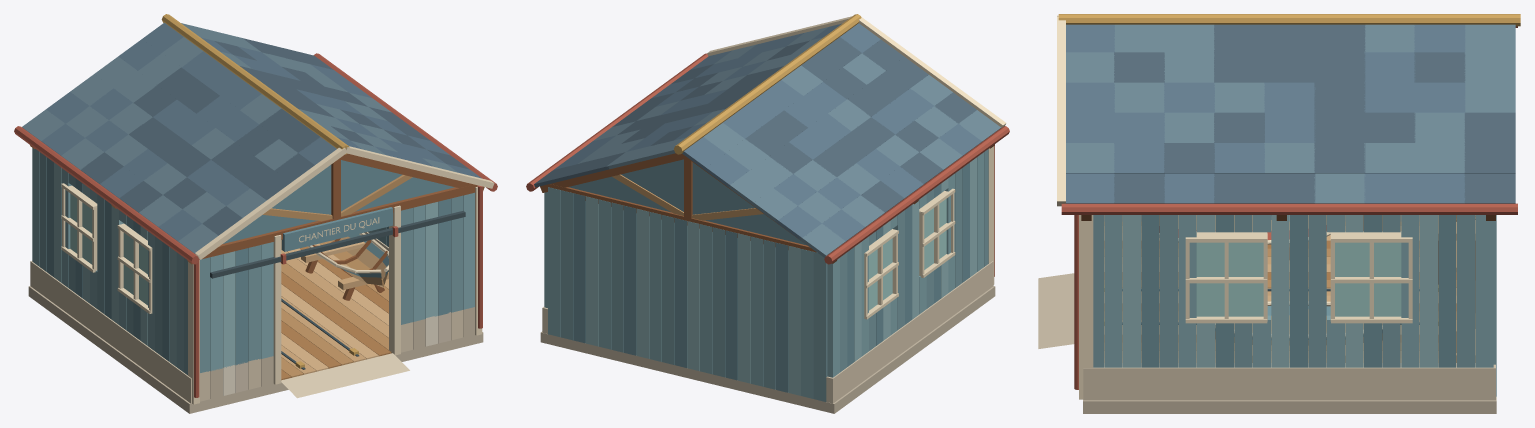
File: hangar_quai.glb
3 views of the same model, side by side, from view 1: azimuth 30°, elevation 25°; view 2: azimuth 150°, elevation 25°; view 3: azimuth 270°, elevation 25° (orthographic). The views are drawn at different scales.
Parts seen in each view (by area): view 1: Toit · Ardoise 1, Toit · Ardoise 0, Toit · Ardoise 2, Atelier · Calcaire 0, Coupe · Bardage 1, Coupe · Bardage 0, Coupe · Peinture ivoire, Coupe · Bardage 3, Toit · Bardage 3, Atelier · Calcaire 1, Coupe · Bardage 2, Toit · Chêne des membrures (+19 smaller); view 2: Toit · Ardoise 1, Toit · Ardoise 2, Toit · Ardoise 0, Atelier · Bardage 1, Atelier · Bardage 0, Atelier · Bardage 2, Atelier · Bardage 3, Toit · Bardage 3, Atelier · Calcaire 1, Atelier · Calcaire 0, Coupe · Peinture ivoire, Toit · Cuivre corail (+9 smaller); view 3: Toit · Ardoise 0, Toit · Ardoise 1, Toit · Ardoise 2, Atelier · Calcaire 0, Coupe · Verre dépoli, Coupe · Bardage 1, Coupe · Peinture ivoire, Coupe · Bardage 0, Coupe · Bardage 3, Coupe · Bardage 2, Atelier · Calcaire 1, Toit · Cuivre corail (+10 smaller).
Part boxes in pixels (<box>): Toit · Ardoise 1: <box>41,22,481,241</box>; Toit · Ardoise 0: <box>81,38,469,235</box>; Toit · Ardoise 2: <box>22,23,457,253</box>; Atelier · Calcaire 0: <box>30,232,463,403</box>; Coupe · Bardage 1: <box>32,148,474,371</box>; Coupe · Bardage 0: <box>39,152,463,372</box>; Coupe · Peinture ivoire: <box>61,183,482,404</box>; Coupe · Bardage 3: <box>47,157,450,365</box>; Toit · Bardage 3: <box>223,160,454,243</box>; Atelier · Calcaire 1: <box>28,286,483,413</box>; Coupe · Bardage 2: <box>54,162,438,367</box>; Toit · Chêne des membrures: <box>30,145,484,264</box>; Toit · Ardoise 1: <box>554,23,982,241</box>; Toit · Ardoise 2: <box>578,27,1001,257</box>; Toit · Ardoise 0: <box>534,37,976,212</box>; Atelier · Bardage 1: <box>544,187,984,398</box>; Atelier · Bardage 0: <box>560,190,988,401</box>; Atelier · Bardage 2: <box>586,196,976,395</box>; Atelier · Bardage 3: <box>573,193,969,392</box>; Toit · Bardage 3: <box>568,159,806,245</box>; Atelier · Calcaire 1: <box>540,286,995,413</box>; Atelier · Calcaire 0: <box>542,261,993,403</box>; Coupe · Peinture ivoire: <box>864,146,994,319</box>; Toit · Cuivre corail: <box>526,53,1009,264</box>; Toit · Ardoise 0: <box>1114,24,1515,203</box>; Toit · Ardoise 1: <box>1066,24,1465,203</box>; Toit · Ardoise 2: <box>1066,24,1515,203</box>; Atelier · Calcaire 0: <box>1038,215,1495,400</box>; Coupe · Verre dépoli: <box>1196,242,1401,316</box>; Coupe · Bardage 1: <box>1104,215,1493,327</box>; Coupe · Peinture ivoire: <box>1079,215,1412,399</box>; Coupe · Bardage 0: <box>1093,215,1474,327</box>; Coupe · Bardage 3: <box>1141,215,1456,327</box>; Coupe · Bardage 2: <box>1123,215,1437,327</box>; Atelier · Calcaire 1: <box>1083,396,1496,413</box>; Toit · Cuivre corail: <box>1061,26,1517,214</box>.
Bounding box in the file's own units: 9.8 × 7.32 × 10.4.
